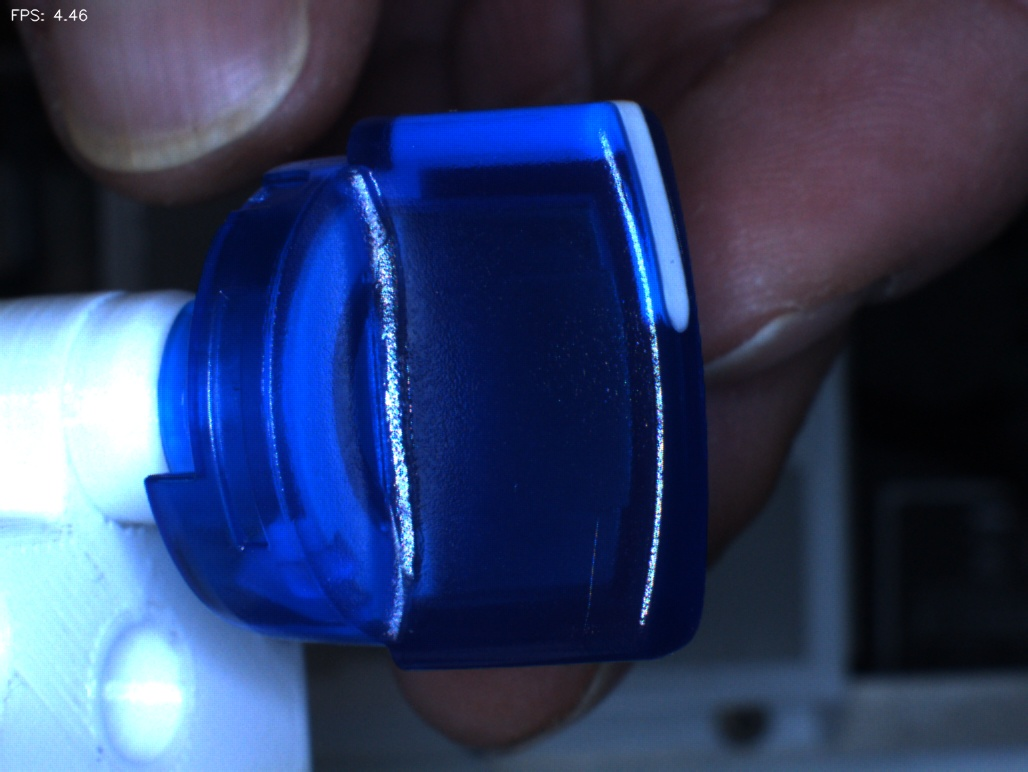Givrage: (555, 488, 633, 645)
